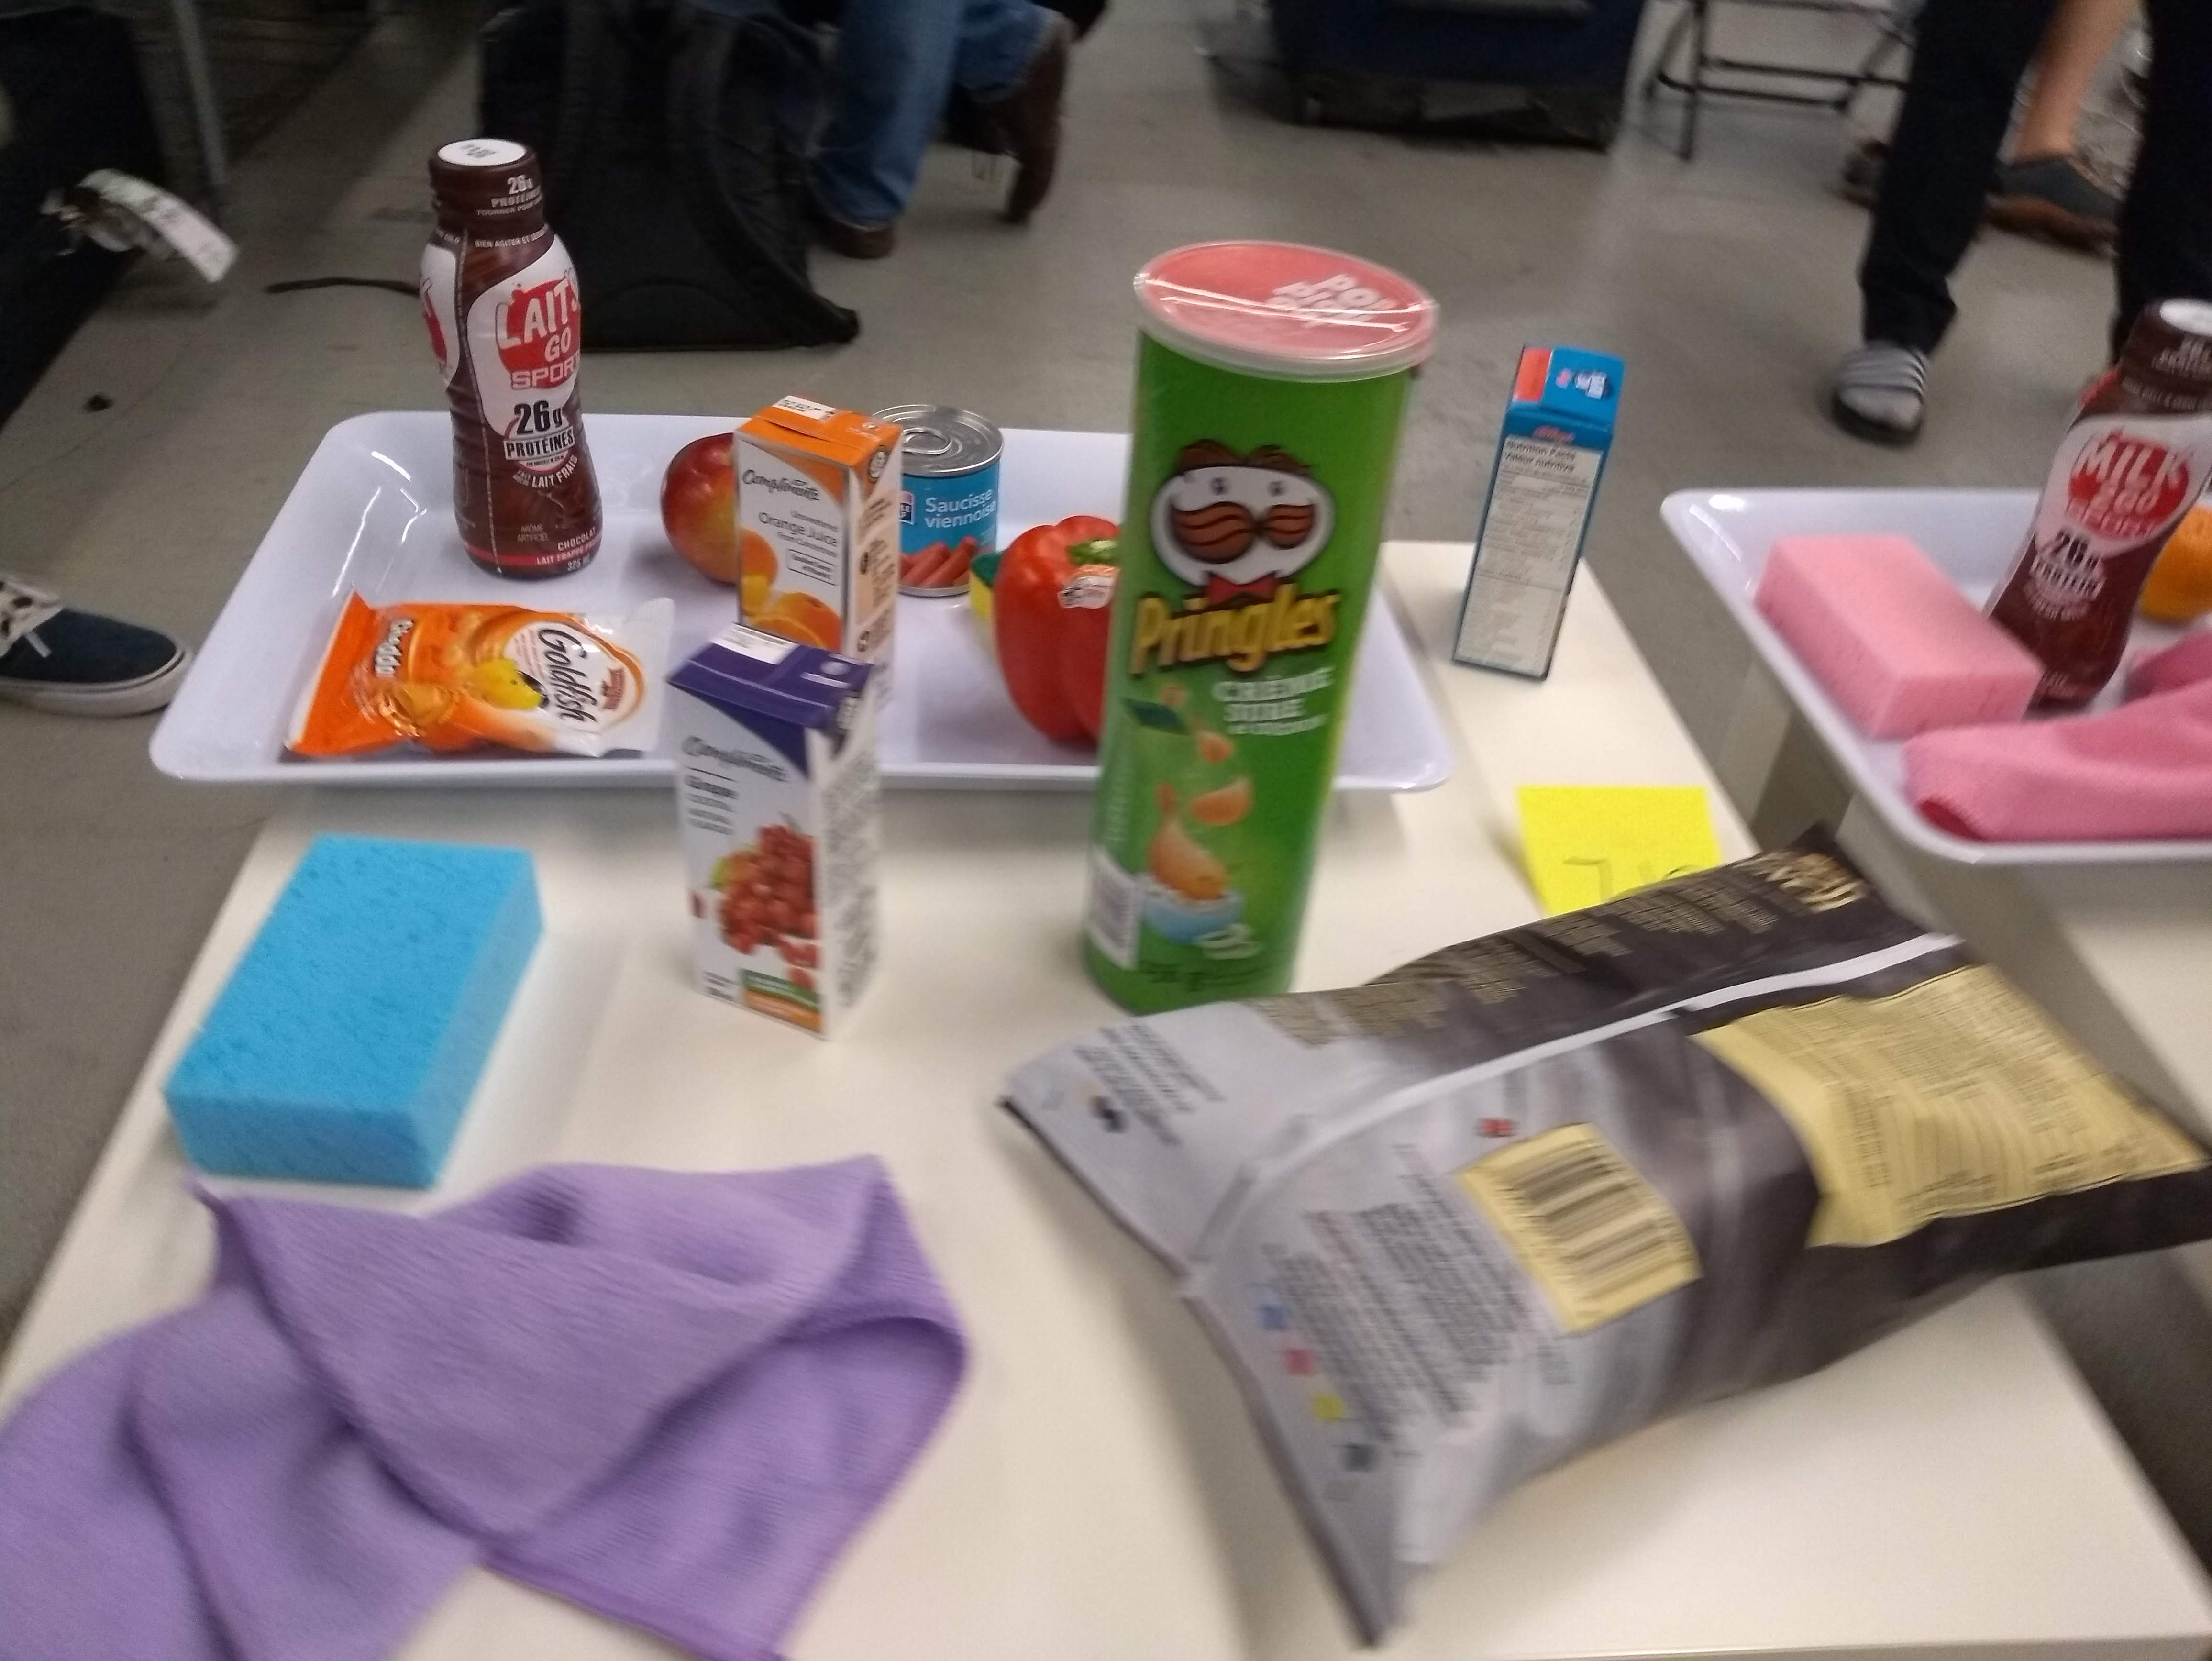apple: (659, 427, 747, 590)
cereal: (1457, 325, 1619, 689)
chocolate_drink: (396, 127, 618, 579), (1999, 279, 2212, 705)
cloth_opl: (0, 1141, 975, 1652)
crackers: (297, 593, 665, 768)
grape_juice: (665, 618, 886, 1040)
orange_juice: (731, 389, 905, 701)
paprika: (989, 511, 1132, 769)
potato_chips: (1029, 837, 2168, 1541)
pringles: (1087, 215, 1430, 1001)
sausages: (877, 398, 1010, 600)
sponge_opl: (157, 827, 550, 1213)
